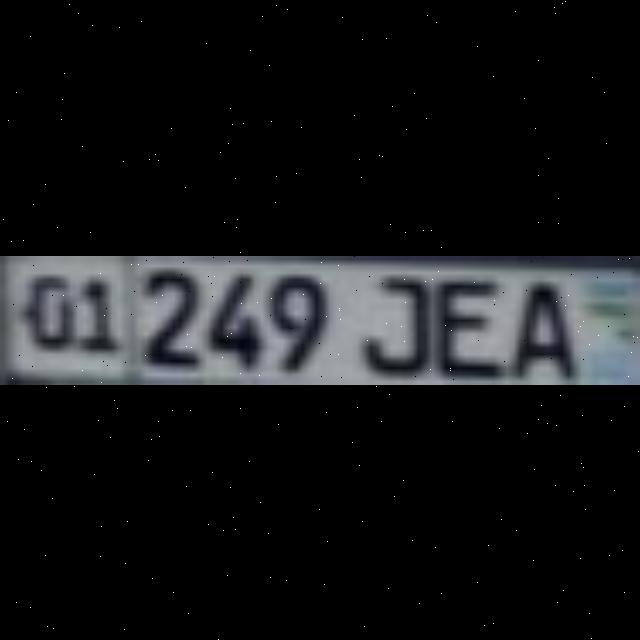0: (13, 268, 61, 344)
1: (68, 268, 110, 344)
2: (130, 262, 190, 364)
4: (198, 268, 258, 364)
9: (258, 268, 320, 364)
A: (497, 269, 565, 371)
E: (430, 269, 490, 371)
J: (354, 269, 422, 371)
